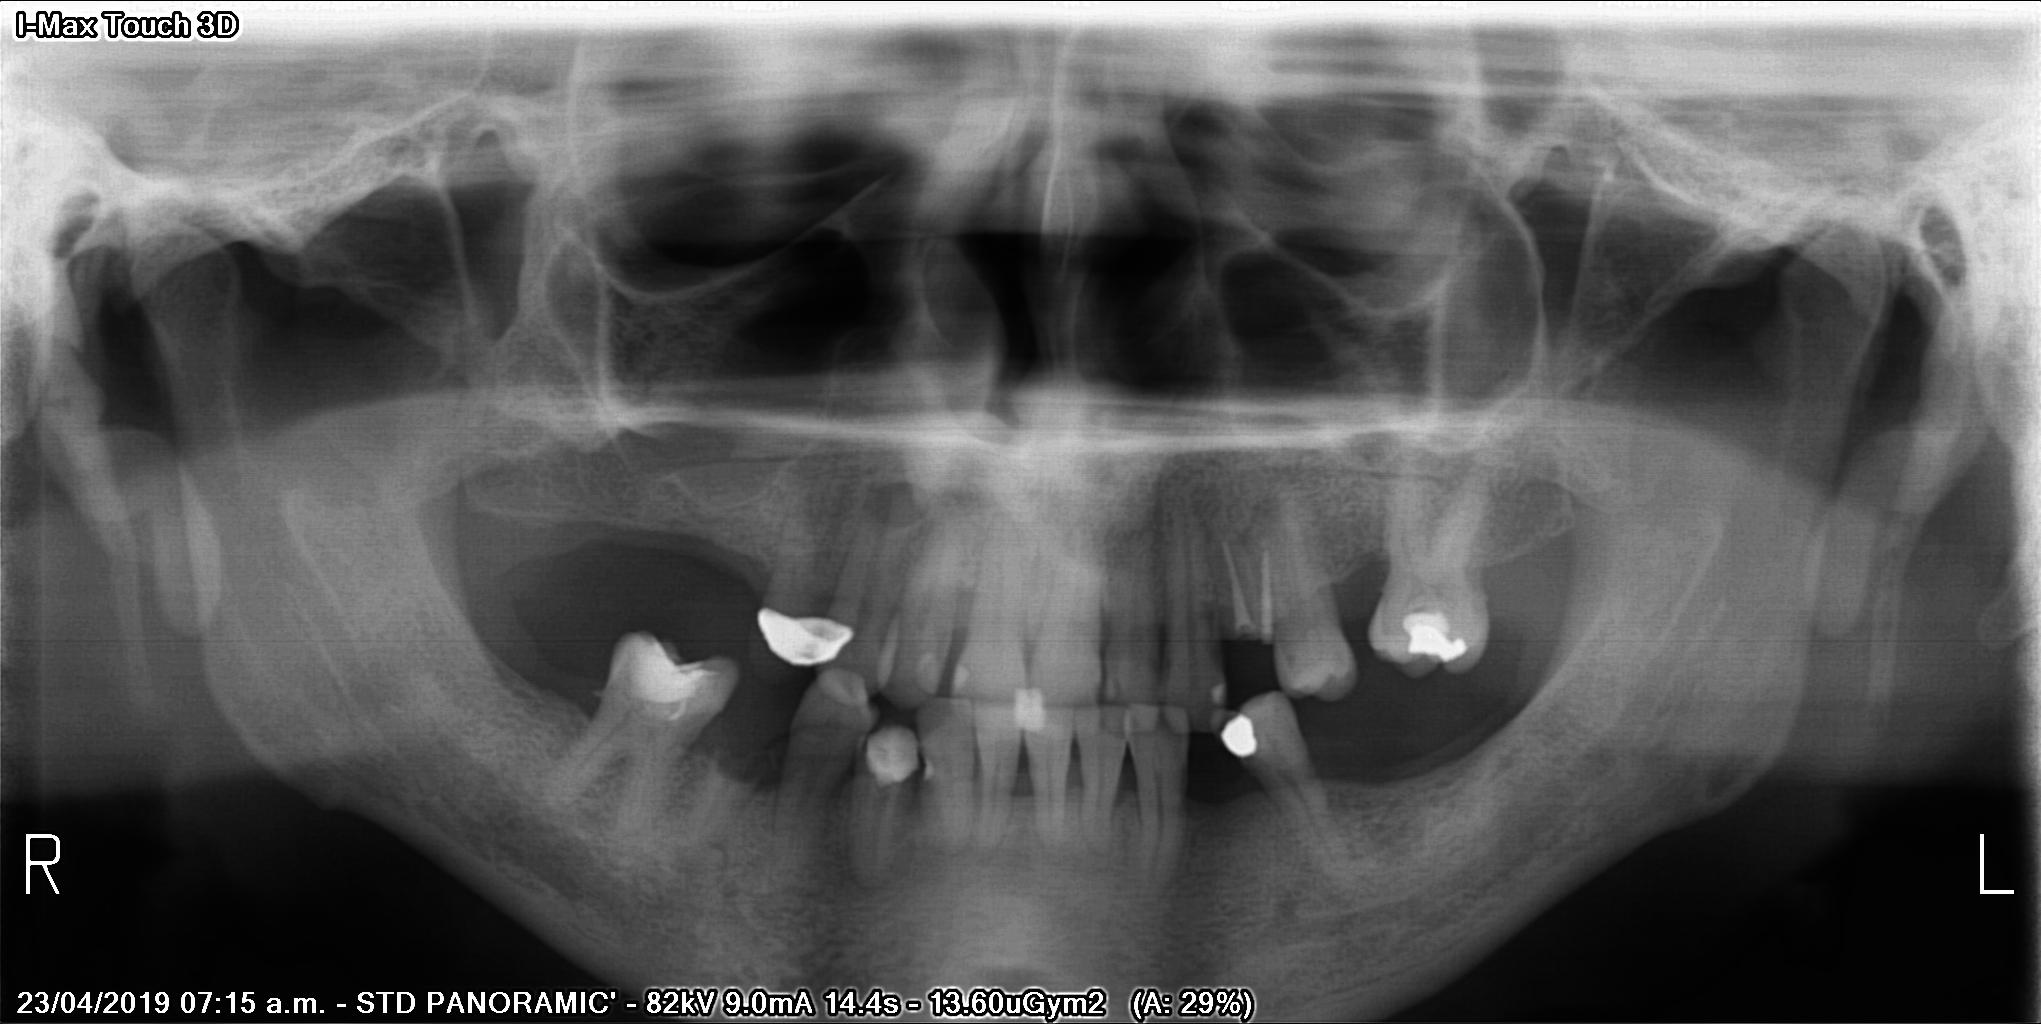Çürük: (619, 624, 708, 718), (747, 600, 863, 671), (1389, 602, 1476, 665), (1220, 709, 1264, 772), (871, 730, 915, 781), (878, 609, 898, 683), (915, 649, 944, 692), (1212, 679, 1230, 730), (1167, 704, 1186, 738)
Çürük Bölgesi: (918, 699, 961, 730), (850, 750, 878, 784)
